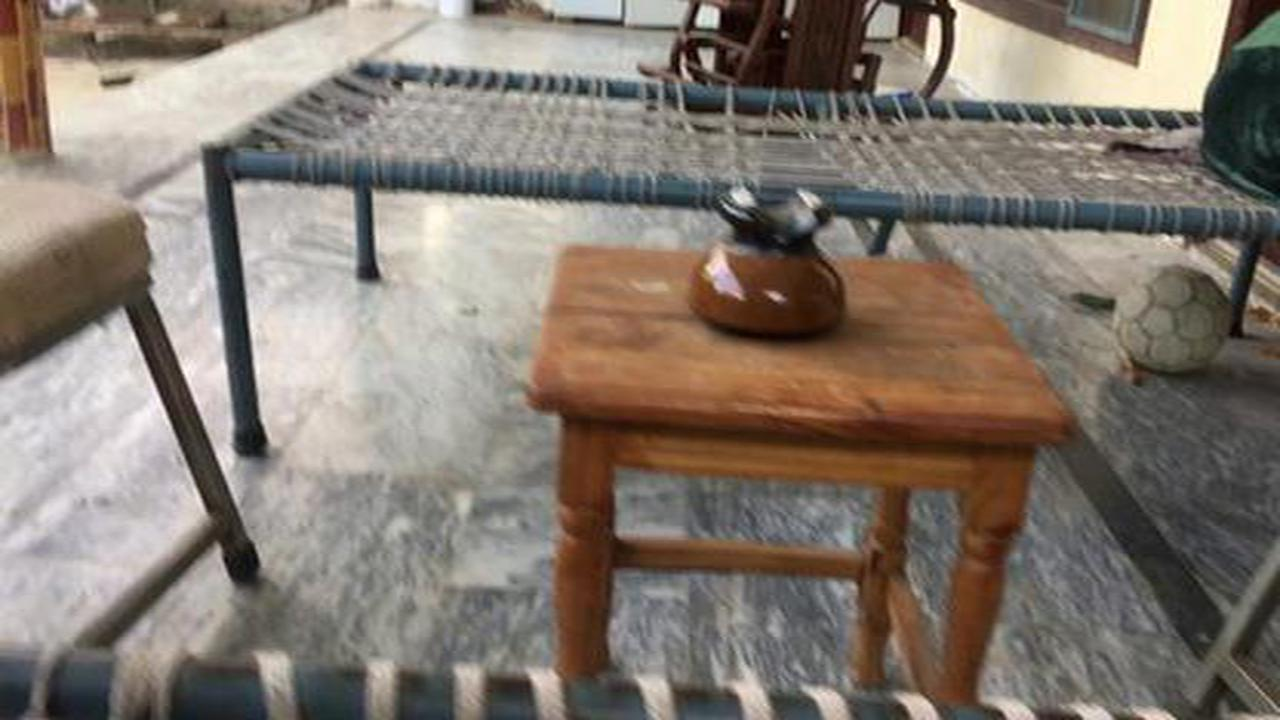insulator_pin: (681, 174, 874, 352)
